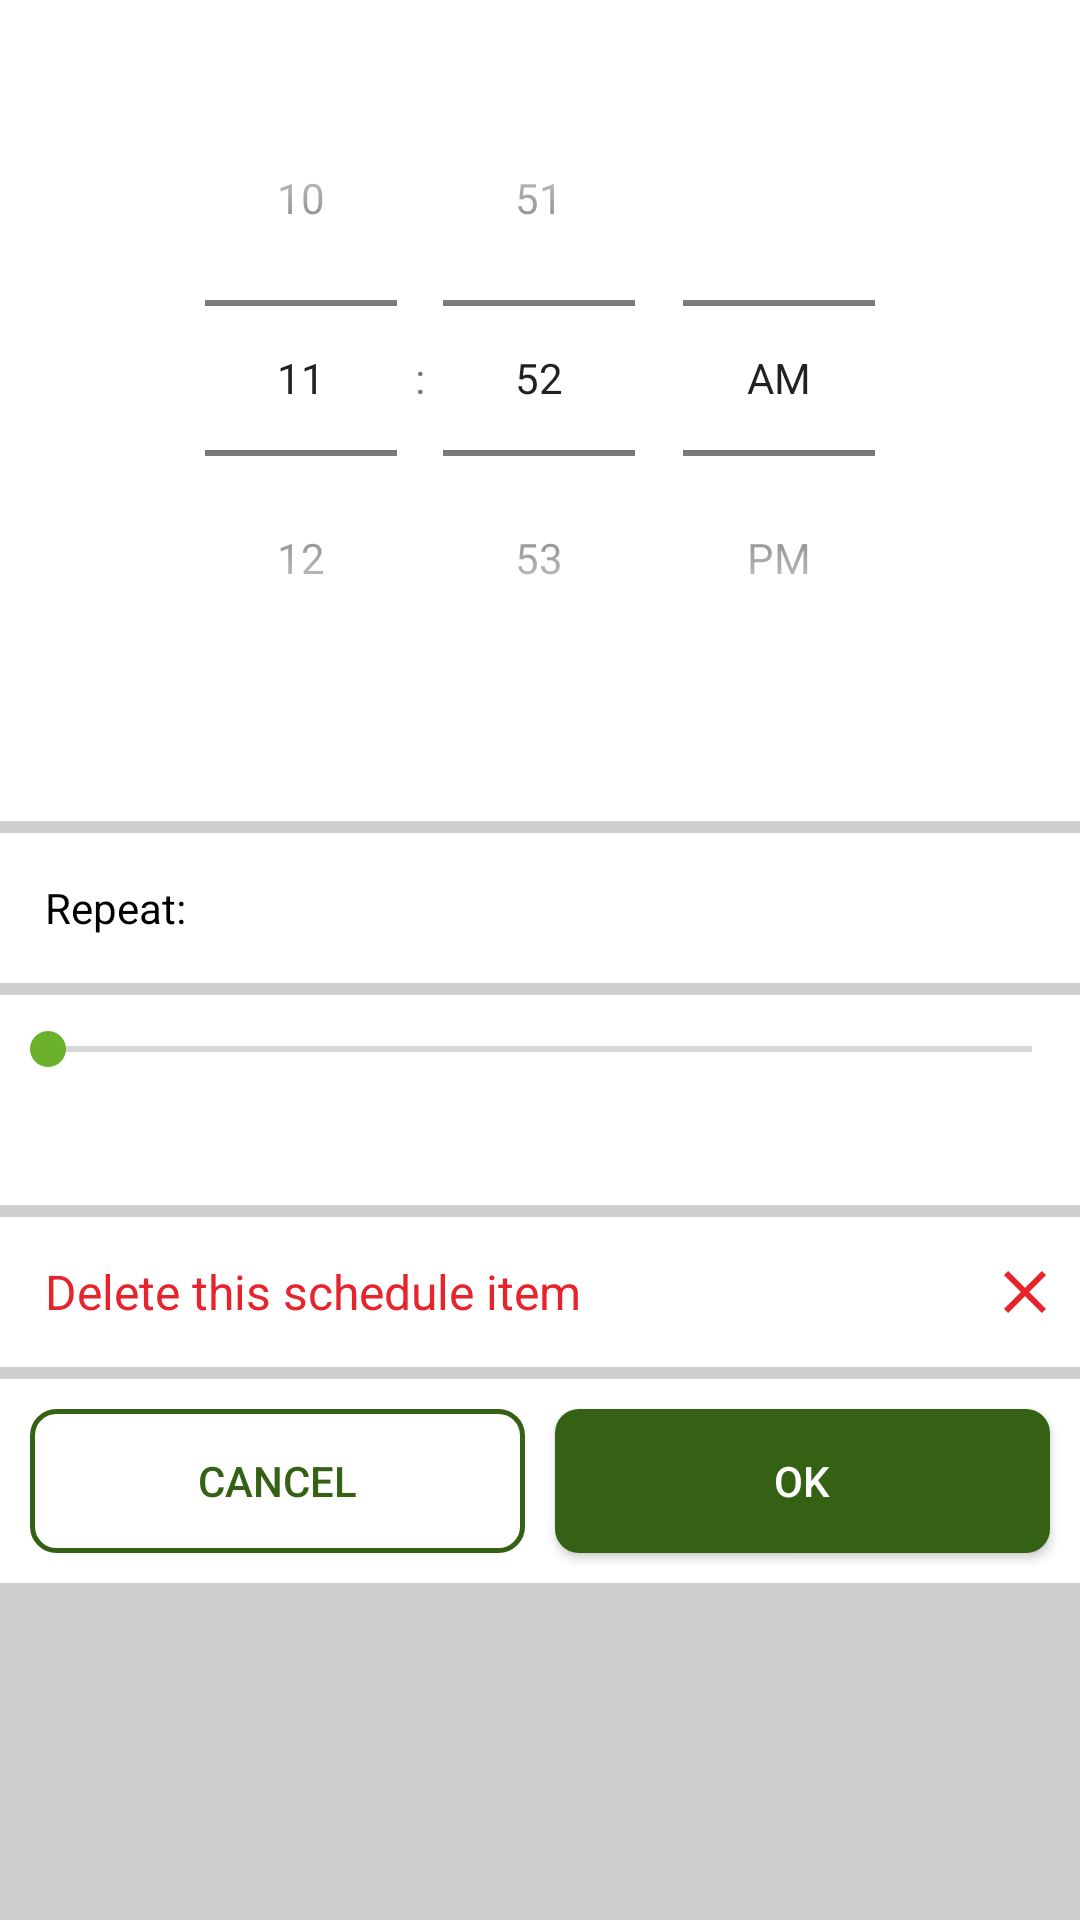

Locate icon controls on the screen. Image size 1080 x 1920, boxes as (x1,y1,x2,y2).
clear: (1004,1271,1046,1313)
